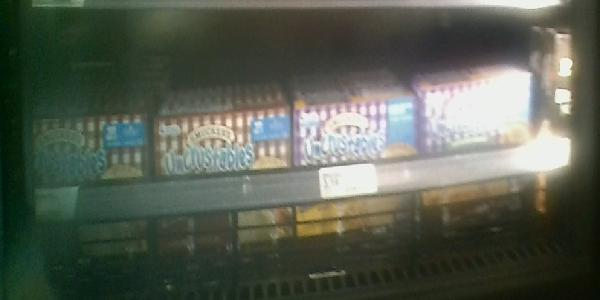icecream: (291, 90, 425, 255), (156, 113, 294, 265), (422, 68, 534, 245), (30, 115, 153, 268)
